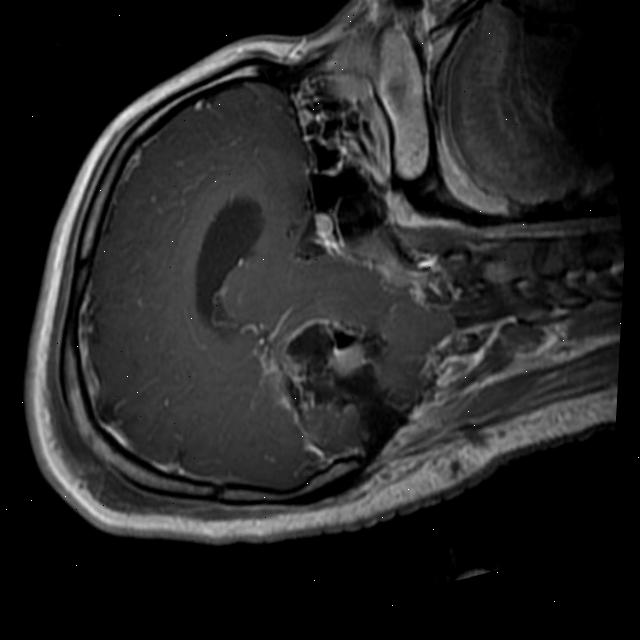Glioma: (264, 297, 405, 453)
Pituitary: (310, 206, 339, 246)
